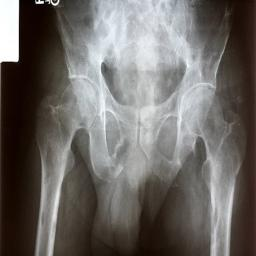cancer: (198, 94, 244, 256), (169, 139, 196, 188), (107, 138, 133, 178), (39, 145, 57, 191), (38, 208, 50, 240)
